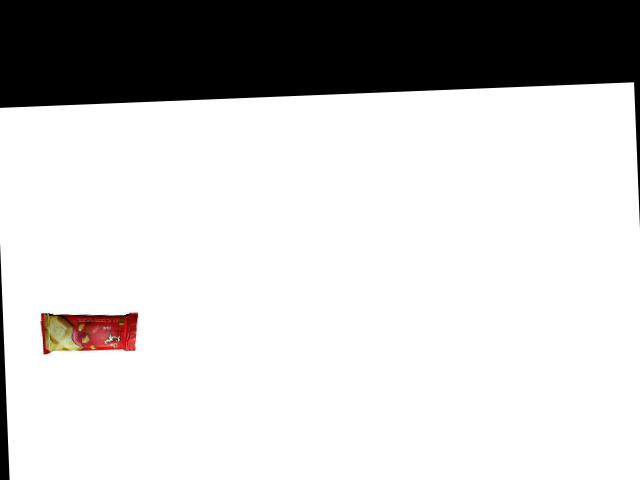chocolate: (40, 303, 145, 357)
